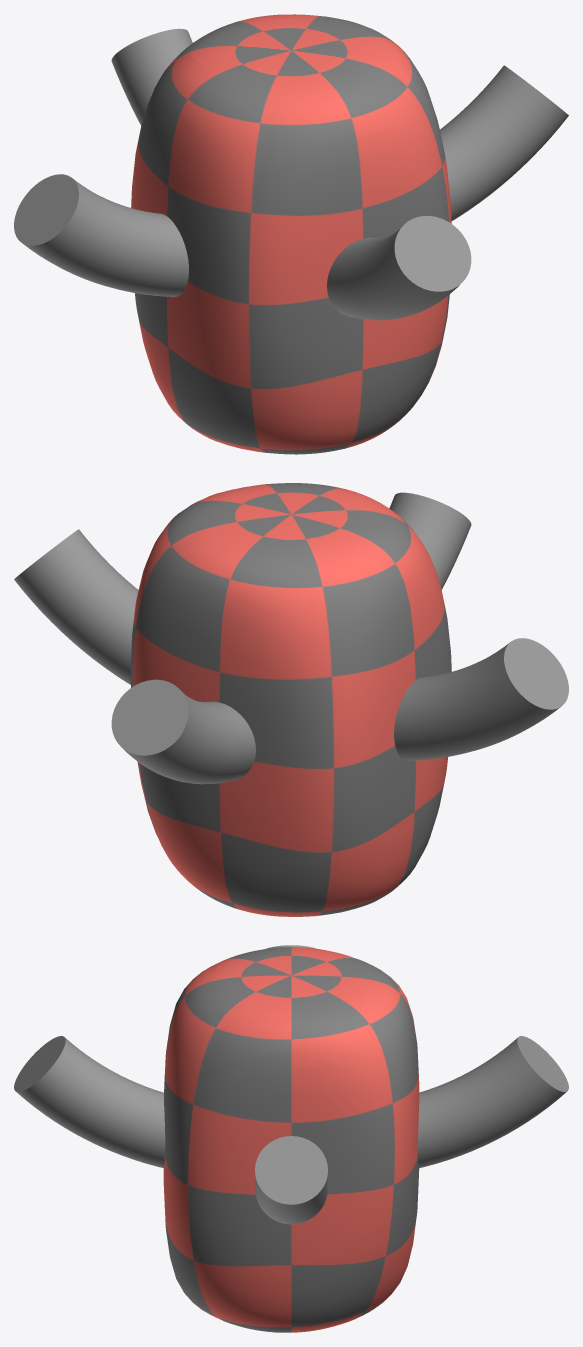
The model's file is Body(Oblong)+Colour(More_Red)+Pattern(Checkered)+Arm_Angle(Bent_Up).fbx.
The picture shows the model from 3 angles, top to bottom: view 1: azimuth 30°, elevation 25°; view 2: azimuth 150°, elevation 25°; view 3: azimuth 270°, elevation 25°; orthographic projection. The views are drawn at different scales.
Visible parts, largest first — view 1: Body(Oblong)+Colour(More_Red)+Pattern(Checkered)+Arm_Angle(B (×5); view 2: Body(Oblong)+Colour(More_Red)+Pattern(Checkered)+Arm_Angle(B (×5); view 3: Body(Oblong)+Colour(More_Red)+Pattern(Checkered)+Arm_Angle(B (×4).
Part boxes in pixels (x1,y1,x2,y2): Body(Oblong)+Colour(More_Red)+Pattern(Checkered)+Arm_Angle(B (×5): (14, 14, 568, 454); Body(Oblong)+Colour(More_Red)+Pattern(Checkered)+Arm_Angle(B (×5): (14, 483, 568, 916); Body(Oblong)+Colour(More_Red)+Pattern(Checkered)+Arm_Angle(B (×4): (14, 947, 568, 1332).
Bounding box in the file's own units: 60.67 × 40 × 60.67.
Materials: 2 (1 with a texture image).
